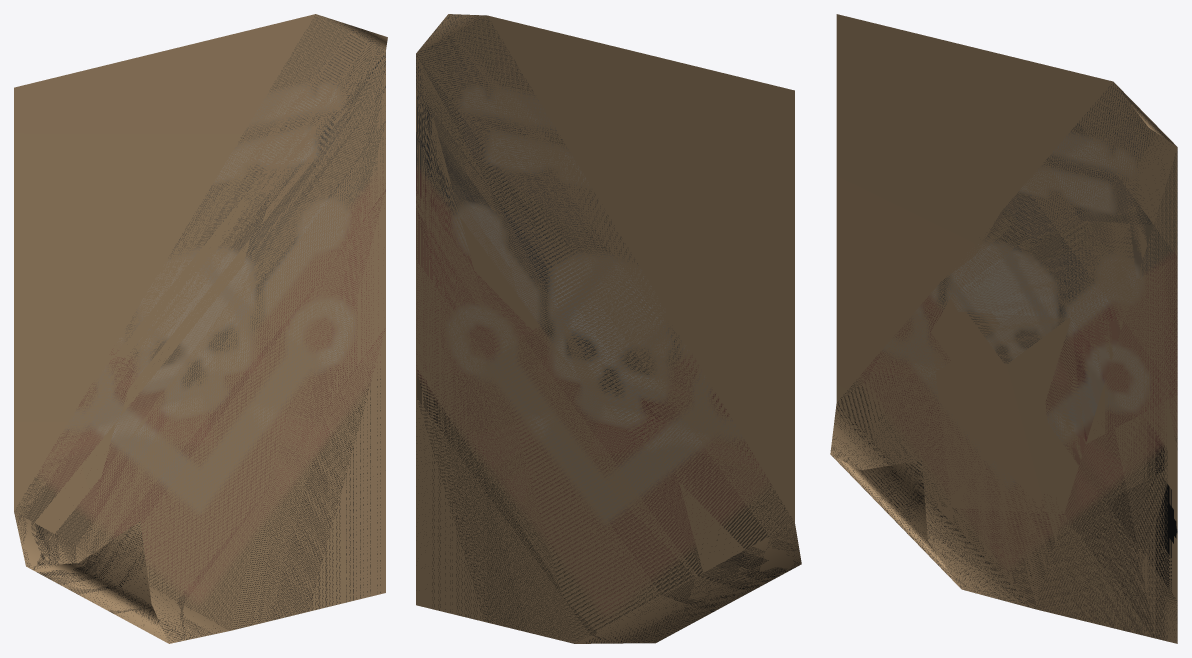
Rendered from SM_Prop_Sign_Poster_11.fbx.
3 renders of one model, left to right at view 1: azimuth 30°, elevation 25°; view 2: azimuth 150°, elevation 25°; view 3: azimuth 330°, elevation 25°, orthographic. The views are drawn at different scales.
Visible parts, largest first — view 1: SM_Prop_Sign_Poster_11; view 2: SM_Prop_Sign_Poster_11; view 3: SM_Prop_Sign_Poster_11.
Part boxes in pixels (bbox=[...]): SM_Prop_Sign_Poster_11: bbox=[14, 14, 387, 643]; SM_Prop_Sign_Poster_11: bbox=[416, 14, 801, 643]; SM_Prop_Sign_Poster_11: bbox=[830, 14, 1177, 643].
Bounding box in the file's own units: 41.46 × 63.51 × 3.74.
